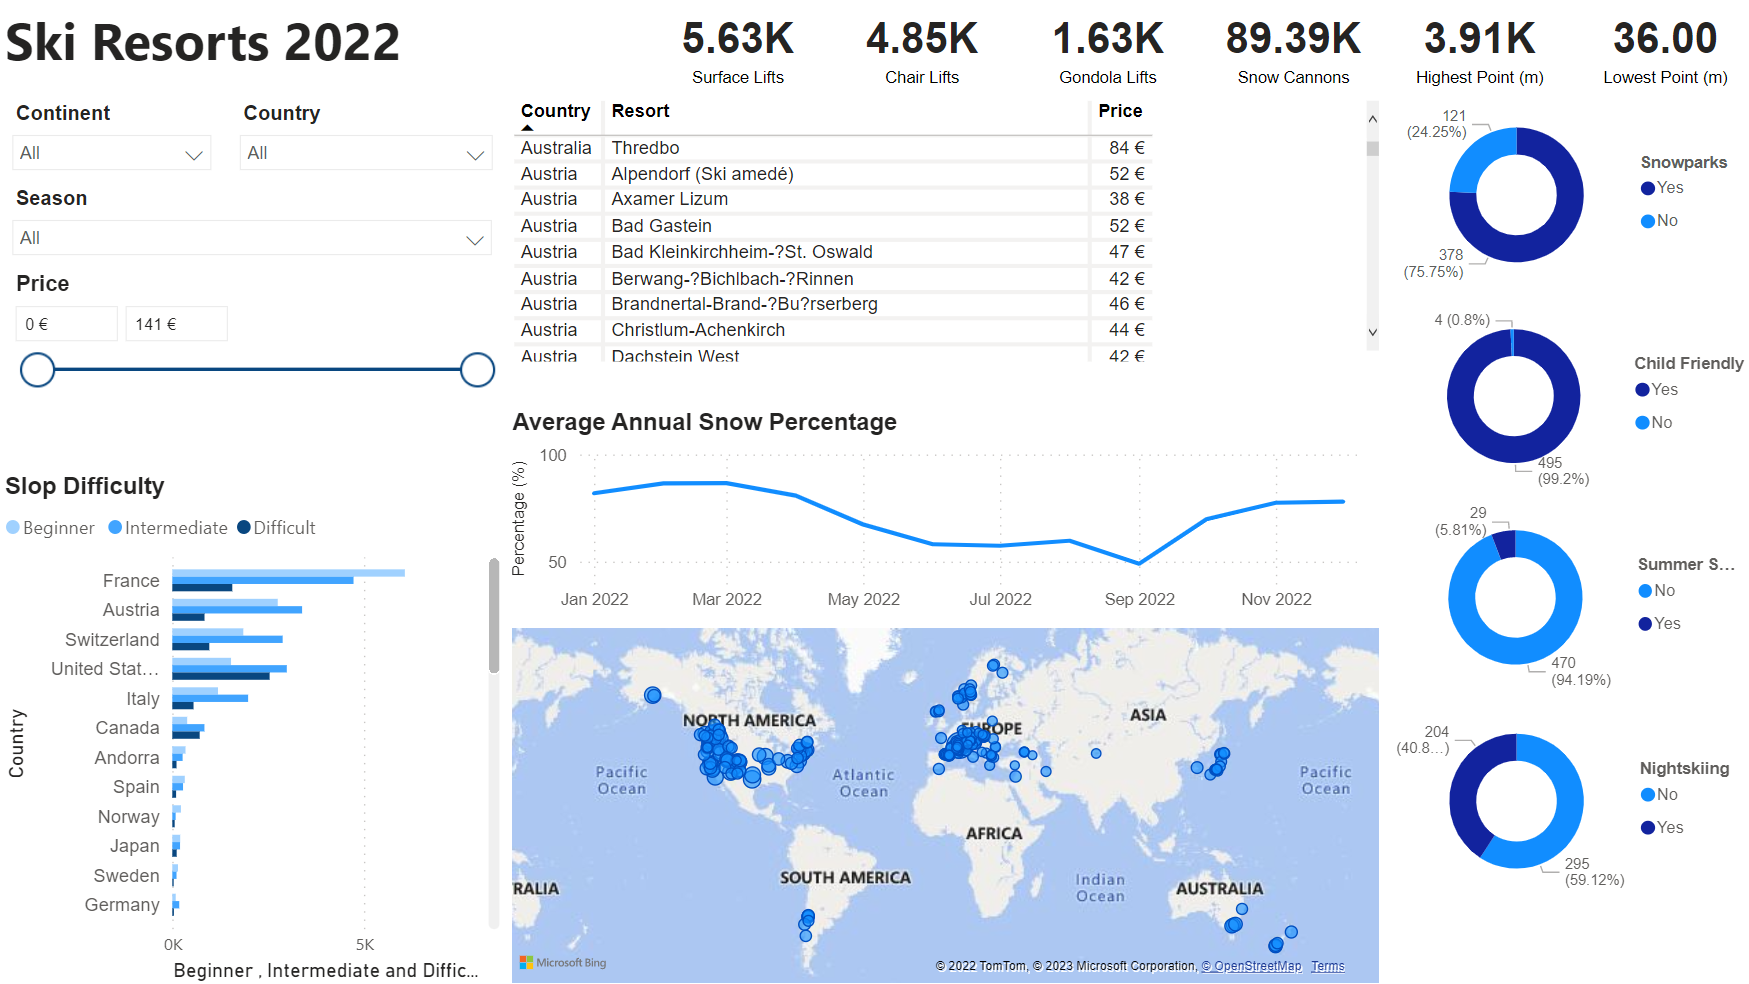

Layout of this report page (visuals, bound fields, positions):
{"tool":"powerbi","page":{"name":"Page 1","canvas":[1280,720],"ordinal":0},"visuals":[{"type":"textbox","box":[0,0,470.5,70.2],"z":0},{"type":"map","fields":{"Y":["resorts.Latitude"],"X":["resorts.Longitude"],"Size":["Sum(resorts.Price)"]},"box":[369.5,453.3,640.5,267.3],"z":1000},{"type":"slicer","fields":{"Values":["resorts.Country"]},"box":[165.1,70.2,204.5,61.6],"z":2000},{"type":"tableEx","fields":{"Values":["resorts.Country","resorts.Resort","Sum(resorts.Price)"]},"box":[369.5,70.2,640.5,199.5],"z":3000},{"type":"card","fields":{"Values":["Sum(resorts.Surface lifts)"]},"box":[470.5,0,134.3,70.2],"z":4000},{"type":"slicer","fields":{"Values":["resorts.Continent"]},"box":[0,70.2,165.1,61.6],"z":5000},{"type":"donutChart","fields":{"Y":["CountNonNull(resorts.Resort)"],"Category":["resorts.Snowparks"]},"box":[1010,70,270,146.2],"z":6000},{"type":"slicer","fields":{"Values":["resorts.Season"]},"box":[0,131.8,369.5,60.4],"z":7000},{"type":"lineChart","title":"Average Annual Snow Percentage","fields":{"Y":["Avg(snow.Snow_Percentage)"],"Category":["snow.Month.Variation.Date Hierarchy.Year","snow.Month.Variation.Date Hierarchy.Month"]},"box":[369.5,298.1,640.5,155.2],"z":8000},{"type":"card","fields":{"Values":["Sum(resorts.Chair lifts)"]},"box":[604.8,0,135.5,70.2],"z":9000},{"type":"card","fields":{"Values":["Sum(resorts.Gondola lifts)"]},"box":[740.3,0,134.3,70.2],"z":10000},{"type":"card","fields":{"Values":["Sum(resorts.Snow cannons)"]},"box":[874.5,0,135.5,70.2],"z":11000},{"type":"card","fields":{"Values":["Max(resorts.Highest Point)"]},"box":[1010,0,135.5,70.2],"z":12000},{"type":"card","fields":{"Values":["Min(resorts.Lowest Point)"]},"box":[1145.5,0,134.3,70.2],"z":13000},{"type":"clusteredBarChart","title":"Slop Difficulty","fields":{"Y":["Sum(resorts.Beginner slopes)","Sum(resorts.Intermediate slopes)","Sum(resorts.Difficult slopes)"],"Category":["resorts.Country"]},"box":[0,344.9,369.5,375.7],"z":14000},{"type":"donutChart","fields":{"Y":["CountNonNull(resorts.Resort)"],"Category":["resorts.Child friendly"]},"box":[1010,216.2,270,146.2],"z":15000},{"type":"donutChart","fields":{"Y":["CountNonNull(resorts.Resort)"],"Category":["resorts.Summer skiing"]},"box":[1010,362.5,270,146.2],"z":16000},{"type":"donutChart","fields":{"Y":["CountNonNull(resorts.Resort)"],"Category":["resorts.Nightskiing"]},"box":[1010,511.2,270,146.2],"z":17000},{"type":"slicer","fields":{"Values":["resorts.Price"]},"box":[0,193.4,369.5,151.5],"z":18000}]}

Visuals, with their boxes in screenshot pixels (x1, y1, x2, y2), scaled from the page's 1280x720 canvas onto the 1749x984 screenshot:
textbox: x1=0, y1=0, x2=643, y2=96
map - resorts.Latitude x resorts.Longitude: x1=505, y1=620, x2=1380, y2=983
slicer - resorts.Country: x1=226, y1=96, x2=505, y2=180
tableEx - resorts.Country x resorts.Resort: x1=505, y1=96, x2=1380, y2=369
card - Sum(resorts.Surface lifts): x1=643, y1=0, x2=826, y2=96
slicer - resorts.Continent: x1=0, y1=96, x2=226, y2=180
donutChart - CountNonNull(resorts.Resort) x resorts.Snowparks: x1=1380, y1=96, x2=1748, y2=295
slicer - resorts.Season: x1=0, y1=180, x2=505, y2=263
"Average Annual Snow Percentage" lineChart: x1=505, y1=407, x2=1380, y2=620
card - Sum(resorts.Chair lifts): x1=826, y1=0, x2=1012, y2=96
card - Sum(resorts.Gondola lifts): x1=1012, y1=0, x2=1195, y2=96
card - Sum(resorts.Snow cannons): x1=1195, y1=0, x2=1380, y2=96
card - Max(resorts.Highest Point): x1=1380, y1=0, x2=1565, y2=96
card - Min(resorts.Lowest Point): x1=1565, y1=0, x2=1748, y2=96
"Slop Difficulty" clusteredBarChart: x1=0, y1=471, x2=505, y2=983
donutChart - CountNonNull(resorts.Resort) x resorts.Child friendly: x1=1380, y1=295, x2=1748, y2=495
donutChart - CountNonNull(resorts.Resort) x resorts.Summer skiing: x1=1380, y1=495, x2=1748, y2=695
donutChart - CountNonNull(resorts.Resort) x resorts.Nightskiing: x1=1380, y1=699, x2=1748, y2=898
slicer - resorts.Price: x1=0, y1=264, x2=505, y2=471
